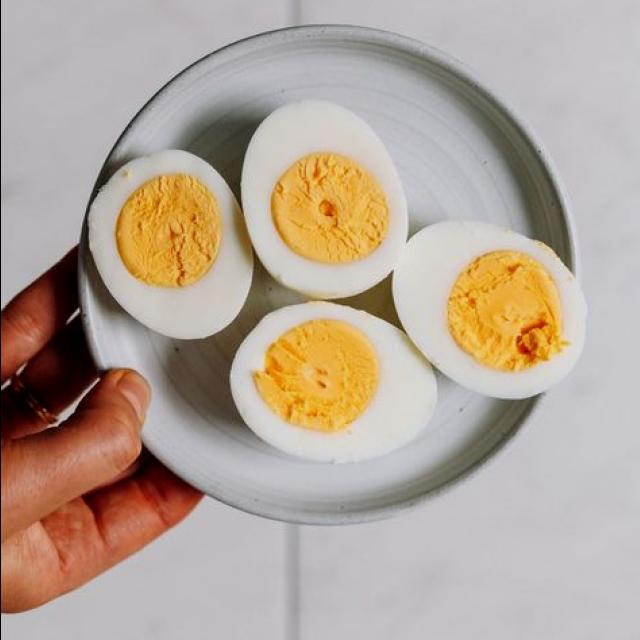telur rebus: (227, 278, 436, 464), (389, 219, 585, 400), (235, 99, 408, 304), (80, 146, 255, 346)
